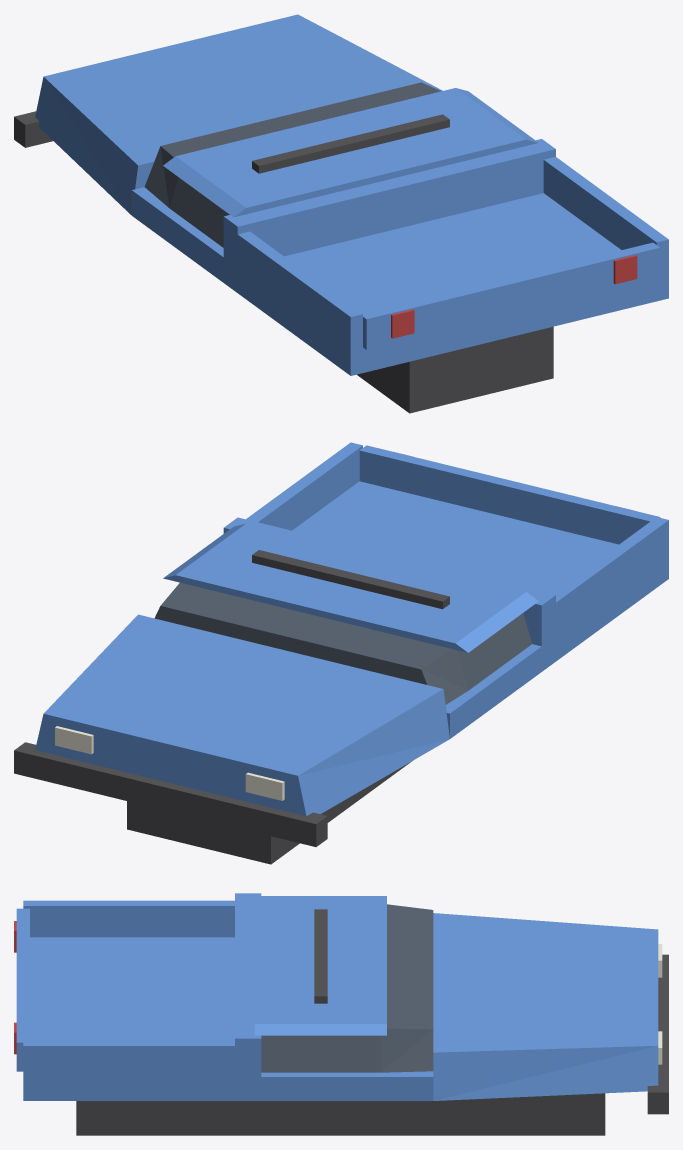
File: monster_truck.glb
3 renders of one model, top to bottom at view 1: azimuth 30°, elevation 25°; view 2: azimuth 150°, elevation 25°; view 3: azimuth 270°, elevation 25°, orthographic. The views are drawn at different scales.
Visible parts, largest first — view 1: Monster Truck; view 2: Monster Truck; view 3: Monster Truck.
Boxes of the visible parts, x1,y1,x2,y2 form: Monster Truck: (14,14,668,413); Monster Truck: (14,442,668,864); Monster Truck: (14,893,668,1135).
Size of the model in its own units: 2.6 by 1.25 by 4.95.
